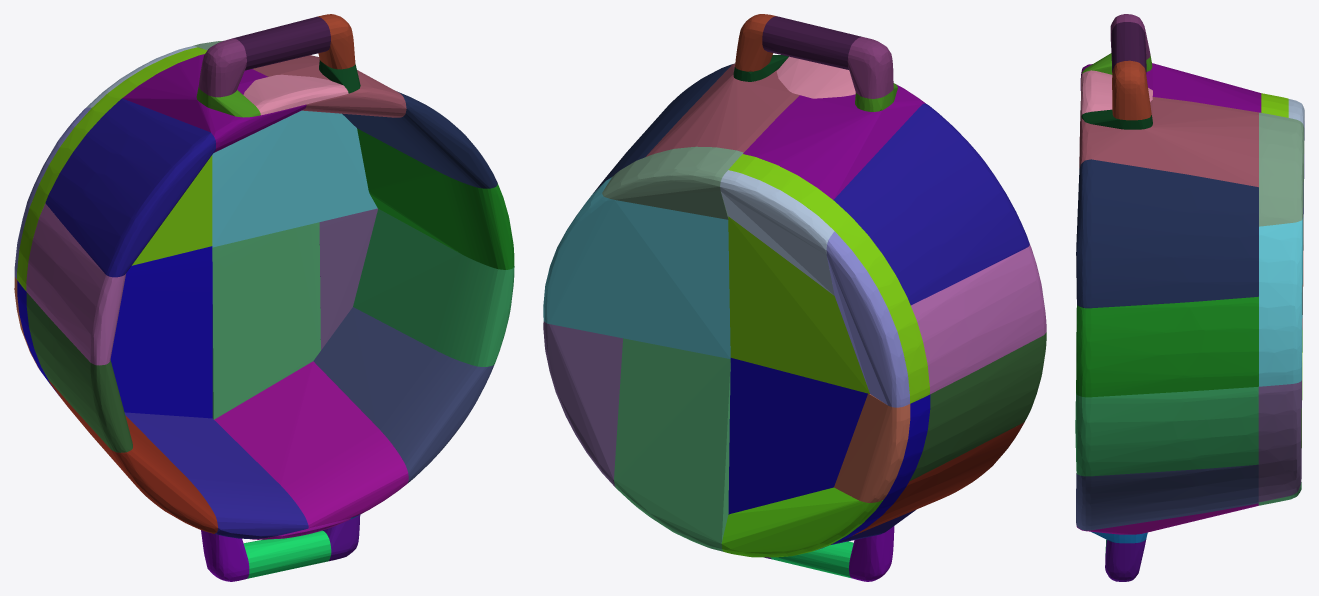
The model's file is coacd_collision.obj.
The picture shows the model from 3 angles, left to right: view 1: azimuth 30°, elevation 25°; view 2: azimuth 150°, elevation 25°; view 3: azimuth 270°, elevation 25°; orthographic projection. The views are drawn at different scales.
Parts seen in each view (by area): view 1: geometry_14, geometry_20, geometry_3, geometry_2, geometry_5, geometry_10, geometry_16, geometry_8, geometry_18, geometry_7, geometry_4, geometry_19 (+15 smaller); view 2: geometry_2, geometry_20, geometry_4, geometry_3, geometry_5, geometry_7, geometry_11, geometry_19, geometry_1, geometry_17, geometry_12, geometry_13 (+11 smaller); view 3: geometry_21, geometry_8, geometry_10, geometry_13, geometry_16, geometry_2, geometry_1, geometry_0, geometry_11, geometry_31, geometry_26, geometry_27 (+8 smaller).
Part boxes in pixels (left/top/right/bottom): geometry_14: left=214, top=361, right=408, bottom=528; geometry_20: left=45, top=98, right=215, bottom=277; geometry_3: left=212, top=222, right=320, bottom=419; geometry_2: left=212, top=110, right=377, bottom=247; geometry_5: left=17, top=246, right=212, bottom=418; geometry_10: left=353, top=209, right=514, bottom=366; geometry_16: left=313, top=307, right=494, bottom=482; geometry_8: left=357, top=128, right=514, bottom=269; geometry_18: left=124, top=412, right=308, bottom=538; geometry_7: left=26, top=203, right=125, bottom=365; geometry_4: left=17, top=47, right=212, bottom=290; geometry_19: left=26, top=292, right=132, bottom=452; geometry_2: left=543, top=177, right=730, bottom=358; geometry_20: left=833, top=103, right=1029, bottom=305; geometry_4: left=728, top=154, right=929, bottom=403; geometry_3: left=614, top=338, right=730, bottom=551; geometry_5: left=728, top=358, right=930, bottom=549; geometry_7: left=911, top=244, right=1046, bottom=394; geometry_11: left=743, top=84, right=925, bottom=199; geometry_19: left=909, top=332, right=1046, bottom=481; geometry_1: left=543, top=321, right=622, bottom=487; geometry_17: left=721, top=487, right=882, bottom=557; geometry_12: left=826, top=231, right=909, bottom=407; geometry_13: left=646, top=63, right=799, bottom=156; geometry_21: left=1076, top=159, right=1258, bottom=308; geometry_8: left=1076, top=296, right=1258, bottom=397; geometry_10: left=1075, top=386, right=1258, bottom=476; geometry_13: left=1079, top=97, right=1258, bottom=187; geometry_16: left=1076, top=464, right=1258, bottom=530; geometry_2: left=1259, top=218, right=1303, bottom=386; geometry_1: left=1258, top=380, right=1301, bottom=502; geometry_0: left=1259, top=112, right=1304, bottom=226; geometry_11: left=1080, top=63, right=1261, bottom=112; geometry_31: left=1112, top=60, right=1151, bottom=120; geometry_26: left=1111, top=22, right=1146, bottom=73; geometry_27: left=1105, top=539, right=1146, bottom=581.
Bounding box in the file's own units: 175 × 214 × 86.55.
